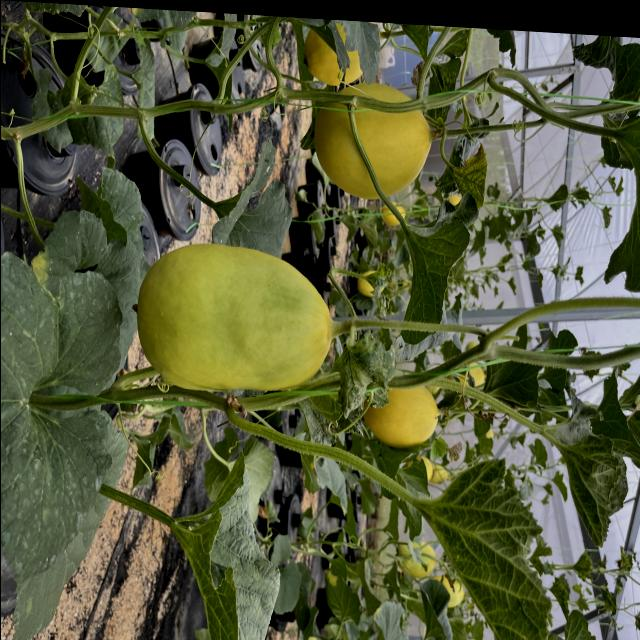CMV: (415, 451, 555, 640)
alternaria leaf blight: (450, 146, 490, 211), (478, 28, 522, 71)
downy mildew: (0, 222, 138, 586), (171, 446, 281, 640), (392, 217, 468, 353), (424, 55, 460, 131), (398, 24, 430, 54)
healthy: (208, 138, 290, 259), (599, 79, 640, 302), (289, 17, 385, 85), (568, 429, 614, 555), (588, 357, 640, 468), (482, 343, 546, 423), (609, 42, 640, 119), (572, 34, 622, 78), (562, 600, 597, 640)
